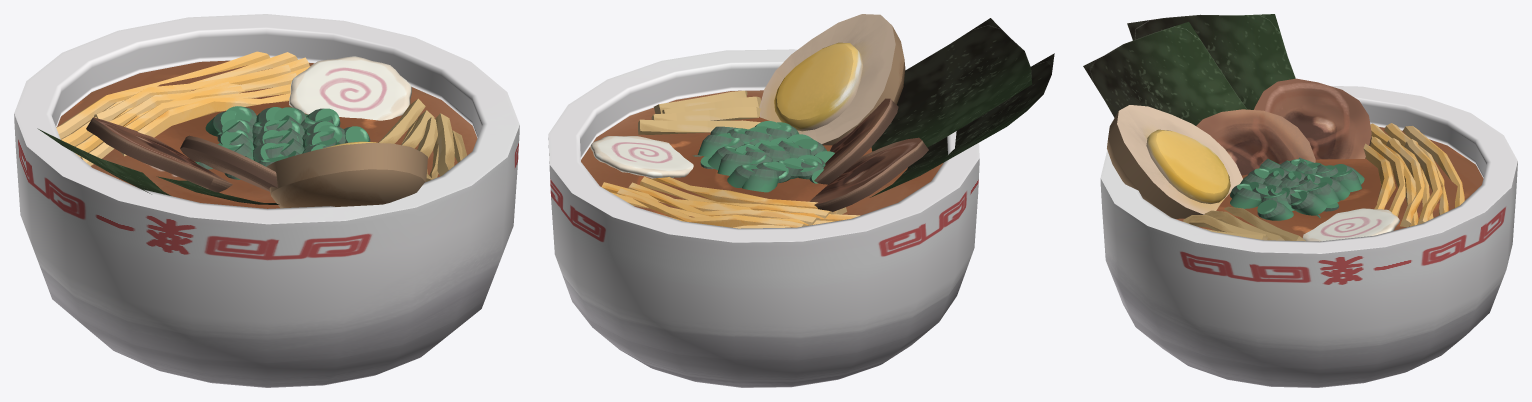
The model's file is Ichiraku Ramen.fbx.
3 renders of one model, left to right at view 1: azimuth 30°, elevation 25°; view 2: azimuth 150°, elevation 25°; view 3: azimuth 270°, elevation 25°, orthographic. The views are drawn at different scales.
Parts seen in each view (by area): view 1: pCylinder1, pCylinder2, pCylinder55, pCylinder59, pCylinder9, pCylinder10, pCylinder56, pCylinder58, pCube2, pPlane1, pCube3, pCube1 (+2 smaller); view 2: pCylinder1, pCylinder2, pPlane2, pCylinder55, pCylinder9, pPlane1, pCylinder56, pCylinder59, pCylinder58, pCylinder10, pCube3, pCube4 (+2 smaller); view 3: pCylinder1, pCylinder2, pPlane2, pPlane1, pCylinder56, pCylinder55, pCylinder58, pCylinder9, pCylinder10, pCylinder59, pCube3, pCube1 (+1 smaller).
Part boxes in pixels (x1,y1,x2,y2): pCylinder1: (14,14,519,387); pCylinder2: (266,141,427,208); pCylinder55: (195,106,370,179); pCylinder59: (289,56,411,120); pCylinder9: (94,64,296,156); pCylinder10: (56,51,310,165); pCylinder56: (86,117,232,192); pCylinder58: (180,135,277,191); pCube2: (435,113,466,176); pPlane1: (37,128,170,195); pCube3: (378,98,425,143); pCube1: (417,117,438,181); pCylinder1: (548,49,979,387); pCylinder2: (759,14,905,145); pPlane2: (871,18,1032,151); pCylinder55: (692,121,834,192); pCylinder9: (617,176,846,227); pPlane1: (870,53,1054,197); pCylinder56: (809,137,928,211); pCylinder59: (590,136,693,178); pCylinder58: (814,98,898,184); pCylinder10: (601,182,860,228); pCube3: (638,119,760,134); pCube4: (651,107,760,120); pCylinder1: (1100,86,1517,387); pCylinder2: (1107,105,1242,218); pPlane2: (1083,22,1247,125); pPlane1: (1127,14,1295,109); pCylinder56: (1254,78,1371,159); pCylinder55: (1230,157,1364,220); pCylinder58: (1196,109,1315,175); pCylinder9: (1363,137,1442,227); pCylinder10: (1370,123,1464,226); pCylinder59: (1302,208,1399,241); pCube3: (1224,206,1305,241); pCube1: (1183,215,1268,239).
Size of the model in its own units: 369 by 203 by 367.
Materials: 8 (8 with a texture image).
